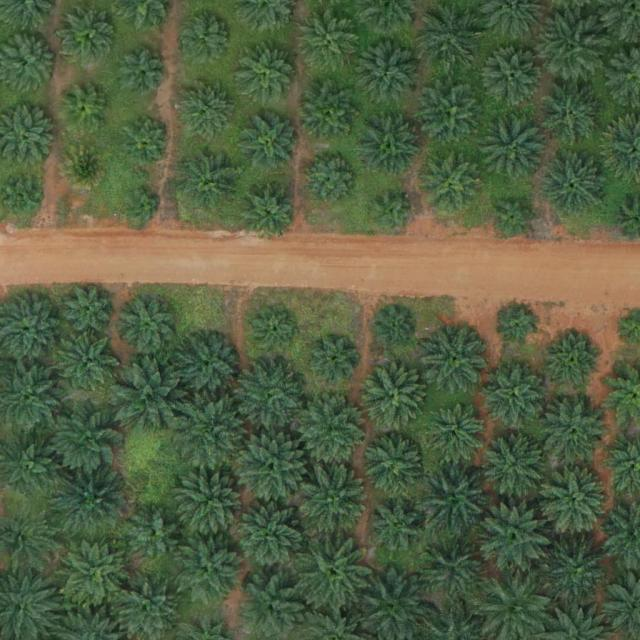Healthy: (49, 401, 127, 480), (109, 359, 187, 438), (174, 396, 252, 475), (233, 499, 311, 578), (296, 462, 374, 541), (295, 534, 373, 613), (415, 457, 493, 536), (414, 531, 492, 610), (478, 500, 556, 579), (538, 464, 616, 542), (177, 470, 248, 541), (297, 395, 368, 466), (536, 14, 606, 85), (57, 466, 127, 537), (60, 540, 130, 611), (176, 535, 247, 605), (237, 431, 307, 502), (234, 359, 304, 429), (359, 117, 422, 180), (300, 9, 363, 72), (179, 149, 242, 212), (362, 436, 425, 499), (541, 87, 603, 150), (544, 154, 606, 217), (483, 47, 545, 110), (483, 115, 545, 178), (420, 4, 482, 67), (421, 83, 483, 146), (421, 153, 483, 216), (359, 41, 421, 104), (300, 82, 362, 145), (236, 45, 298, 108), (238, 180, 300, 243), (57, 332, 120, 394), (176, 335, 238, 398), (363, 364, 425, 427), (427, 328, 489, 391), (423, 403, 485, 466), (484, 363, 546, 426), (484, 433, 546, 496), (543, 399, 605, 462), (548, 541, 610, 604), (367, 496, 429, 558), (304, 153, 359, 208), (244, 116, 299, 171), (179, 80, 234, 135), (63, 10, 118, 65), (129, 508, 184, 563), (178, 10, 232, 65), (61, 283, 115, 338), (120, 299, 174, 354), (550, 334, 604, 389), (123, 118, 170, 165)
Small: (252, 309, 299, 357), (62, 88, 109, 135), (119, 50, 166, 97), (312, 337, 359, 384), (492, 195, 539, 242), (370, 190, 417, 237), (124, 188, 163, 228), (375, 308, 415, 347), (501, 307, 540, 346)
Yellow: (63, 143, 110, 191)
